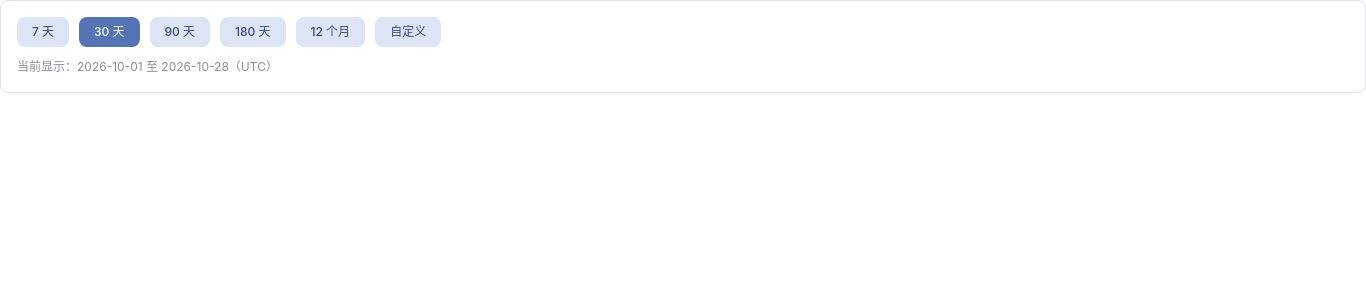
Test: developer calendar range picker › disables actions with an empty start and switches back to recent presets
Click the button "自定义" at (408, 32), box [375,17,441,47]
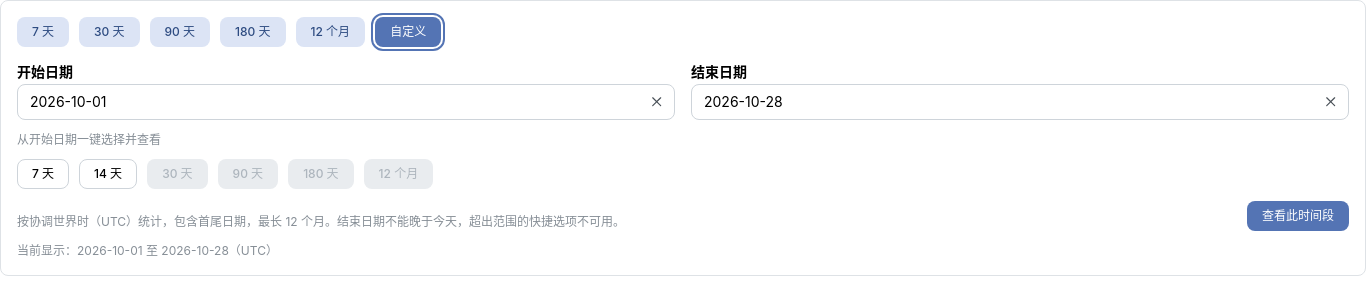
Click the button named "清除开始日期" at (657, 102), box [646,91,668,113]
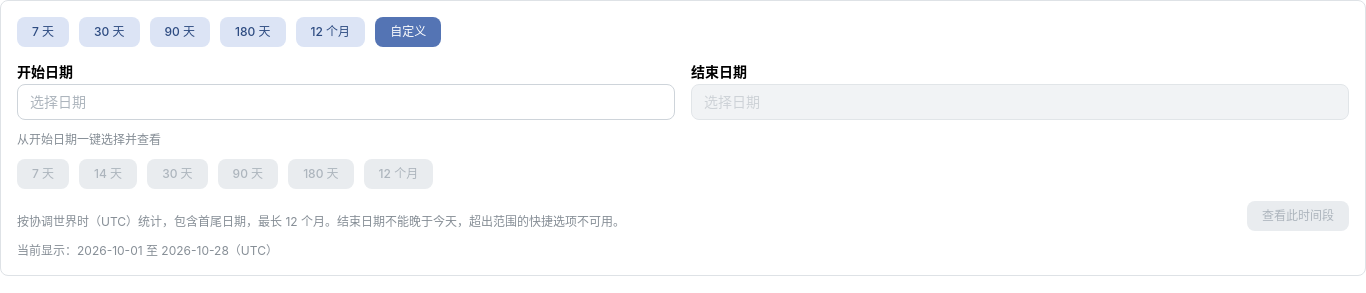
Check: the button named "结束日期" is disabled, box [691,84,1349,120]
Check: the button "查看此时间段" is disabled, box [1247,201,1349,231]
Click the 1st button "7 天" at (43, 32), box [17,17,69,47]
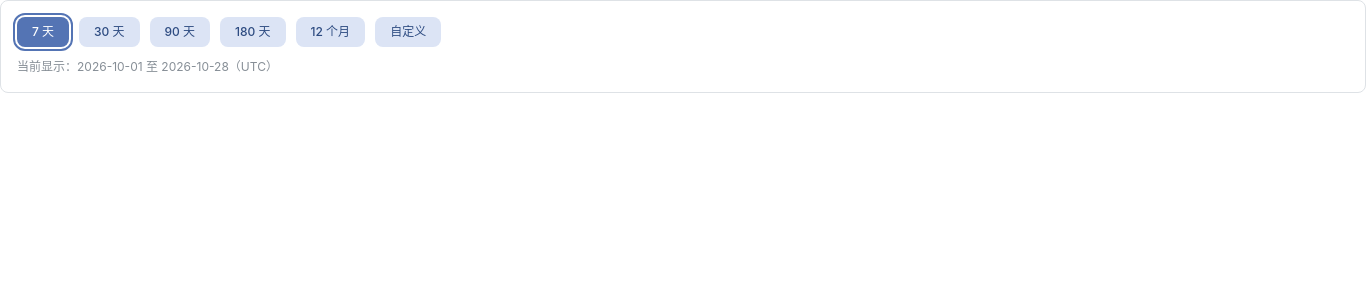
Check: the label labelled "开始日期" is gone
